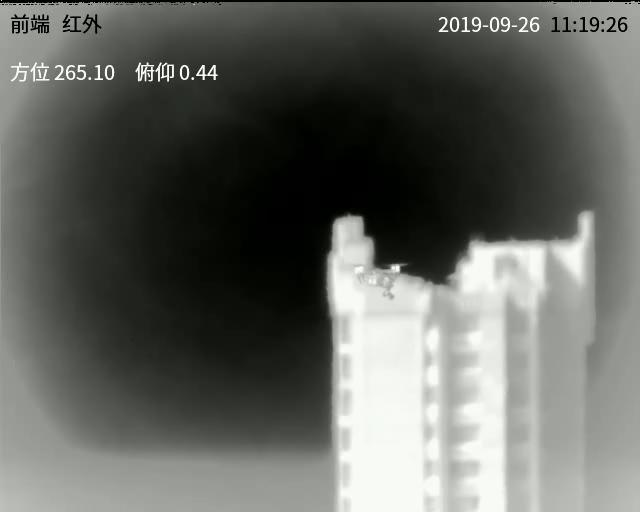uav: (350, 256, 409, 302)
